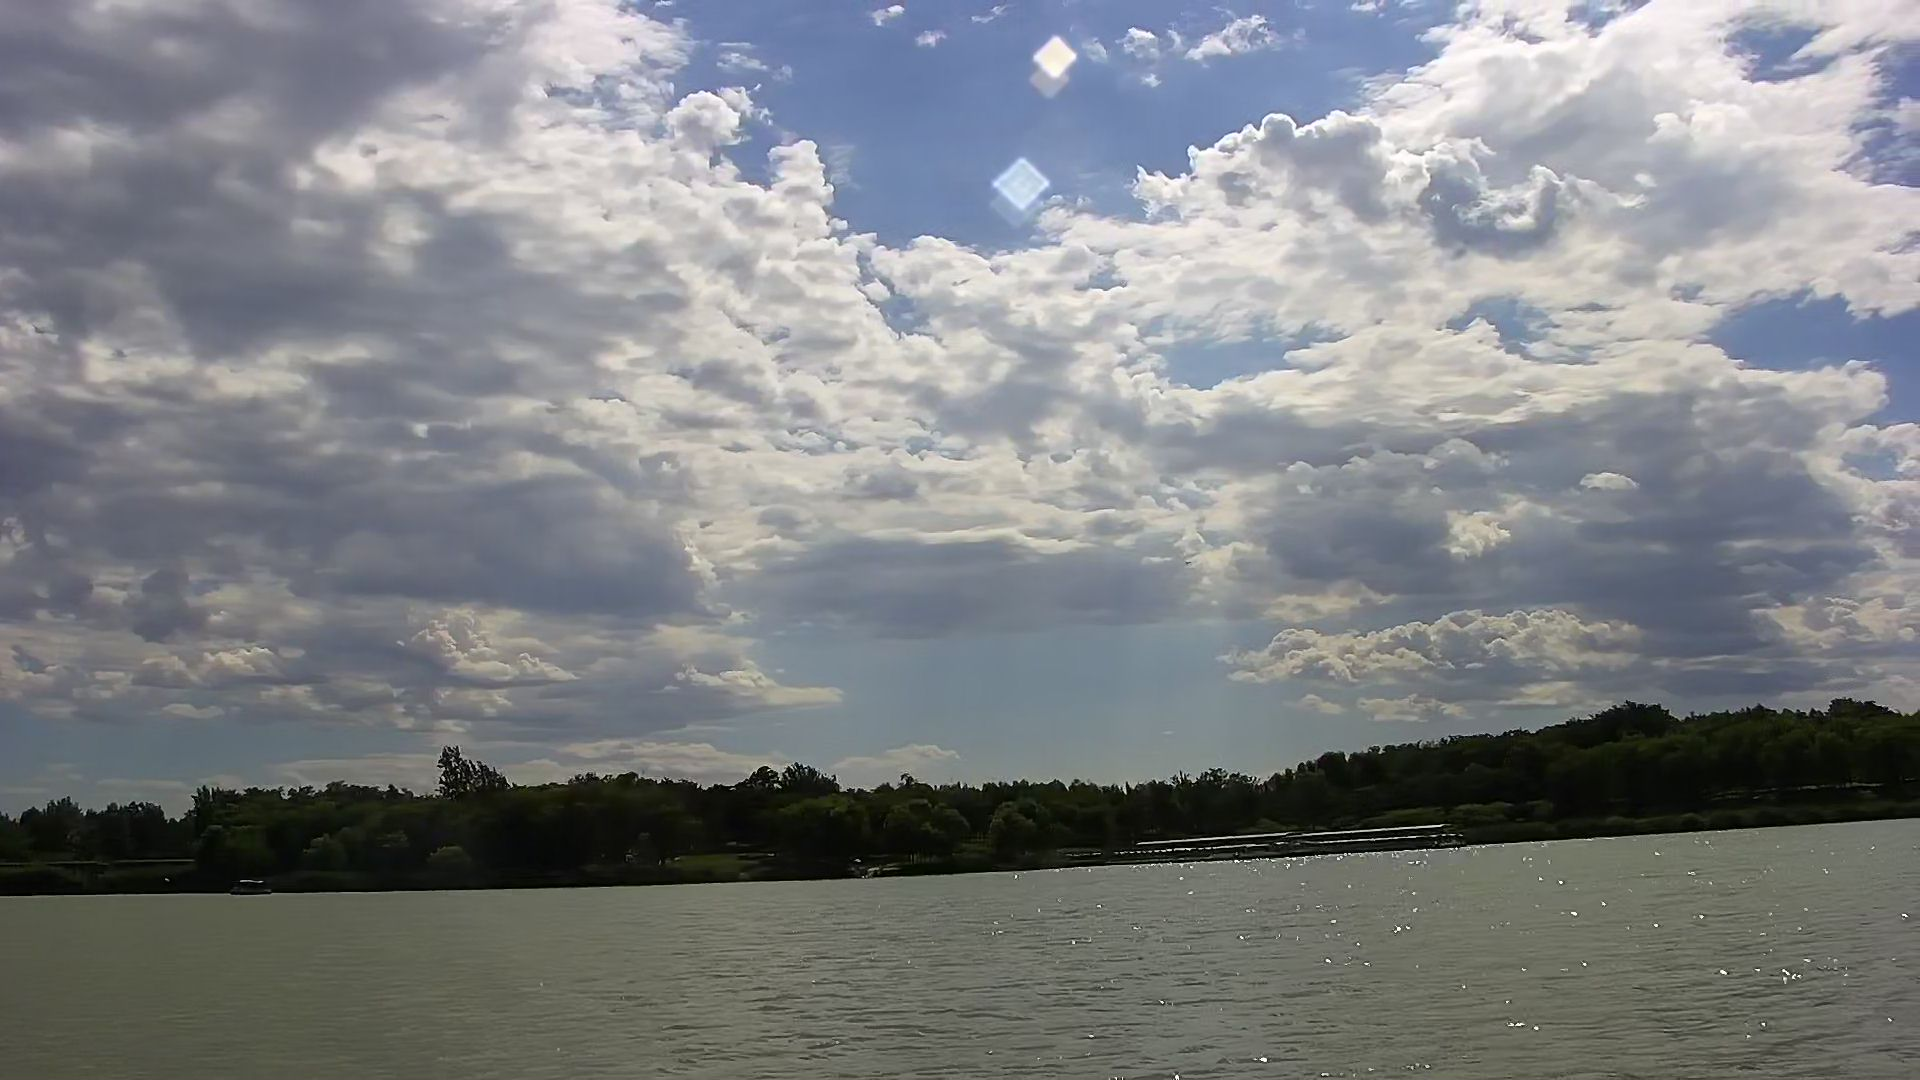harbor: (1113, 820, 1484, 858)
